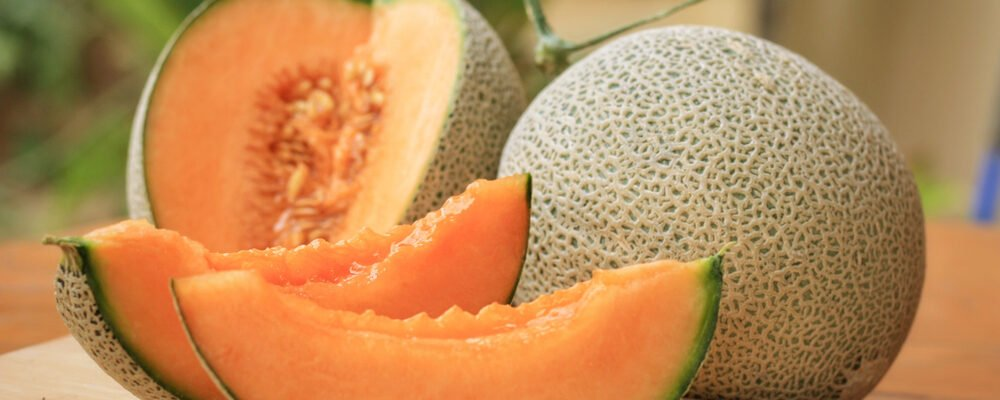Melon: (82, 141, 559, 377), (164, 248, 745, 398)
